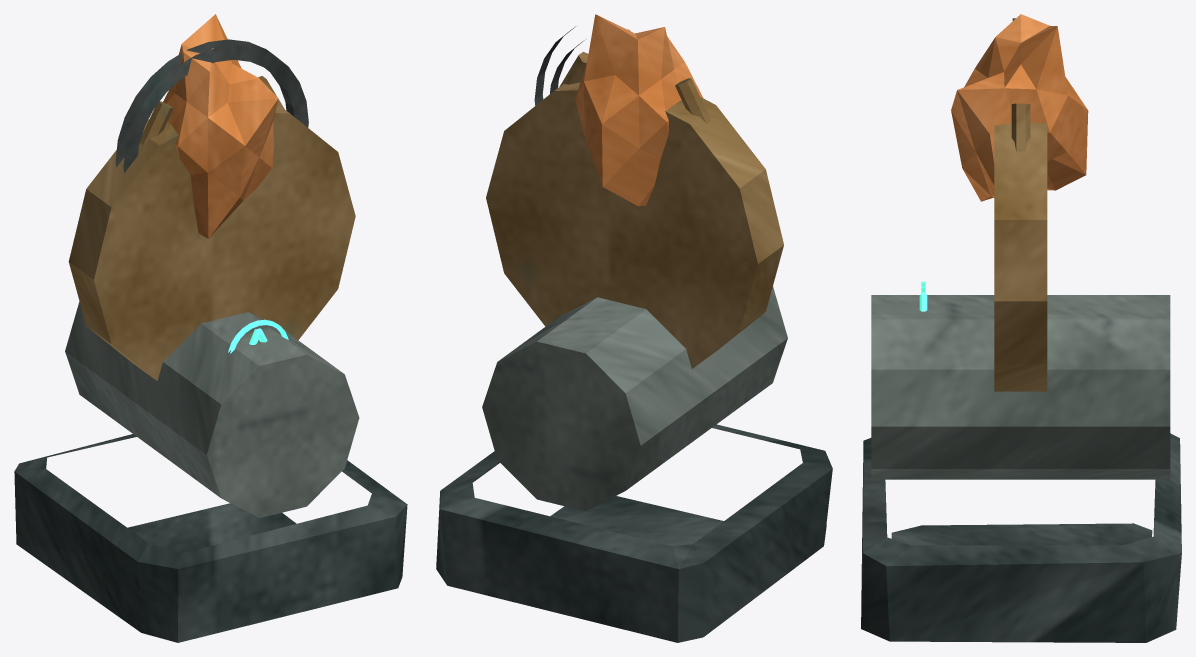
Rendered from 0600_relic_pedestal_25.glb.
3 views of the same model, side by side, from view 1: azimuth 30°, elevation 25°; view 2: azimuth 150°, elevation 25°; view 3: azimuth 270°, elevation 25° (orthographic). The views are drawn at different scales.
Visible parts, largest first — view 1: brass, stone_dark, stone, amber, iron, glow; view 2: brass, stone_dark, stone, amber, iron; view 3: stone, stone_dark, brass, amber.
Part boxes in pixels (x1,y1,x2,y2): brass: [68, 76, 355, 380]; stone_dark: [14, 434, 407, 642]; stone: [65, 301, 359, 517]; amber: [163, 14, 278, 238]; iron: [115, 39, 308, 172]; glow: [228, 319, 288, 353]; brass: [486, 52, 783, 368]; stone_dark: [436, 424, 832, 642]; stone: [482, 286, 787, 511]; amber: [575, 14, 702, 206]; iron: [534, 26, 584, 105]; stone: [871, 295, 1170, 479]; stone_dark: [861, 433, 1181, 642]; brass: [994, 103, 1047, 391]; amber: [951, 14, 1088, 201].
Size of the model in its own units: 0.9691 by 1.88 by 0.9659.
Materials: 6 (6 with a texture image).
